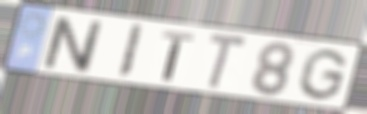8: (249, 40, 297, 98)
G: (294, 47, 351, 102)
I: (114, 22, 147, 81)
N: (41, 14, 105, 76)
T: (205, 30, 251, 92), (160, 29, 197, 84)
